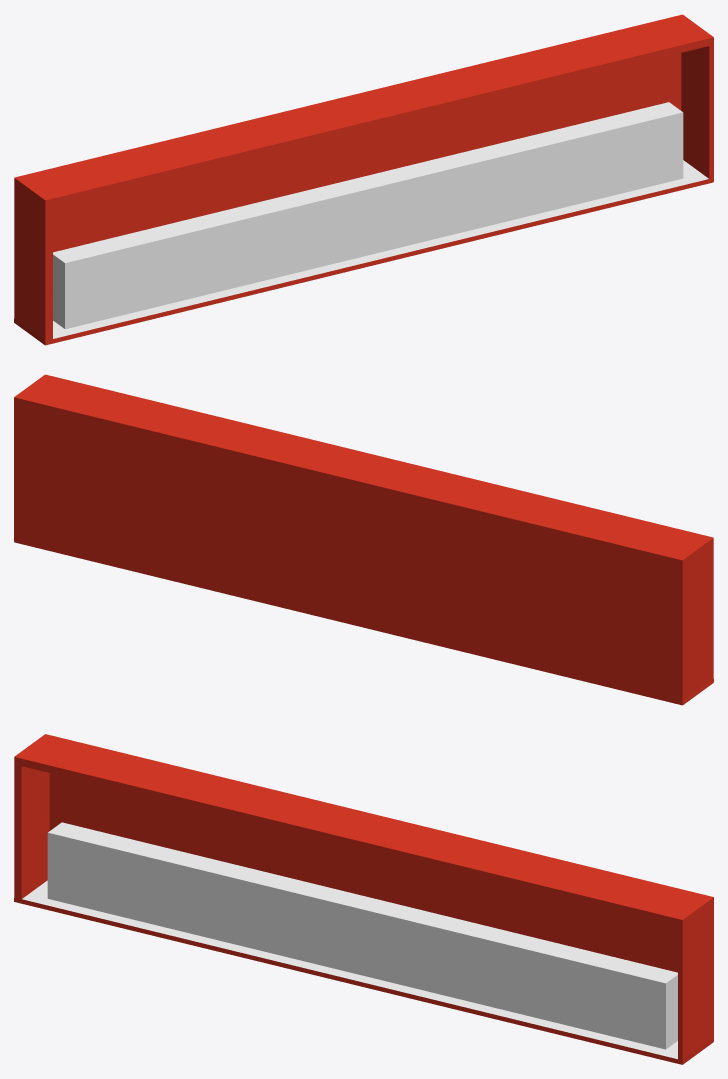
The model's file is Boca.fbx.
The picture shows the model from 3 angles, top to bottom: view 1: azimuth 30°, elevation 25°; view 2: azimuth 150°, elevation 25°; view 3: azimuth 330°, elevation 25°; orthographic projection.
Parts seen in each view (by area): view 1: Boca; view 2: Boca; view 3: Boca.
Part boxes in pixels (x1,y1,x2,y2): Boca: [14, 14, 713, 345]; Boca: [14, 374, 713, 705]; Boca: [14, 734, 713, 1064].
Size of the model in its own units: 60.31 by 12.5 by 4.88.
